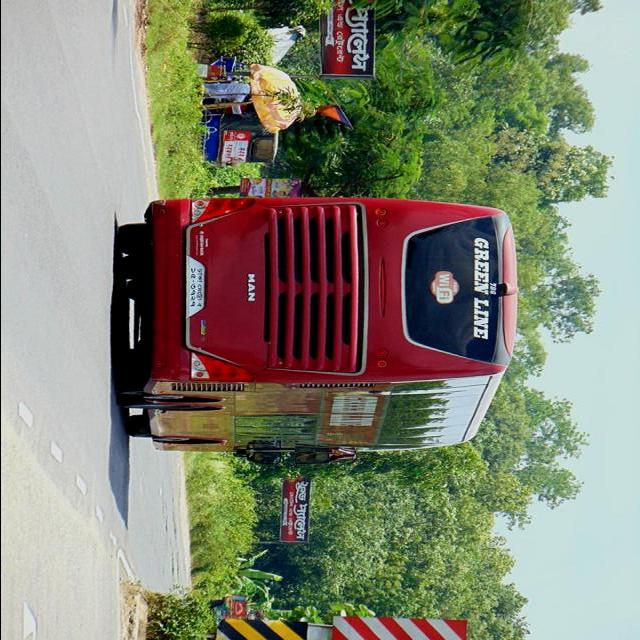bus: (116, 196, 518, 467)
